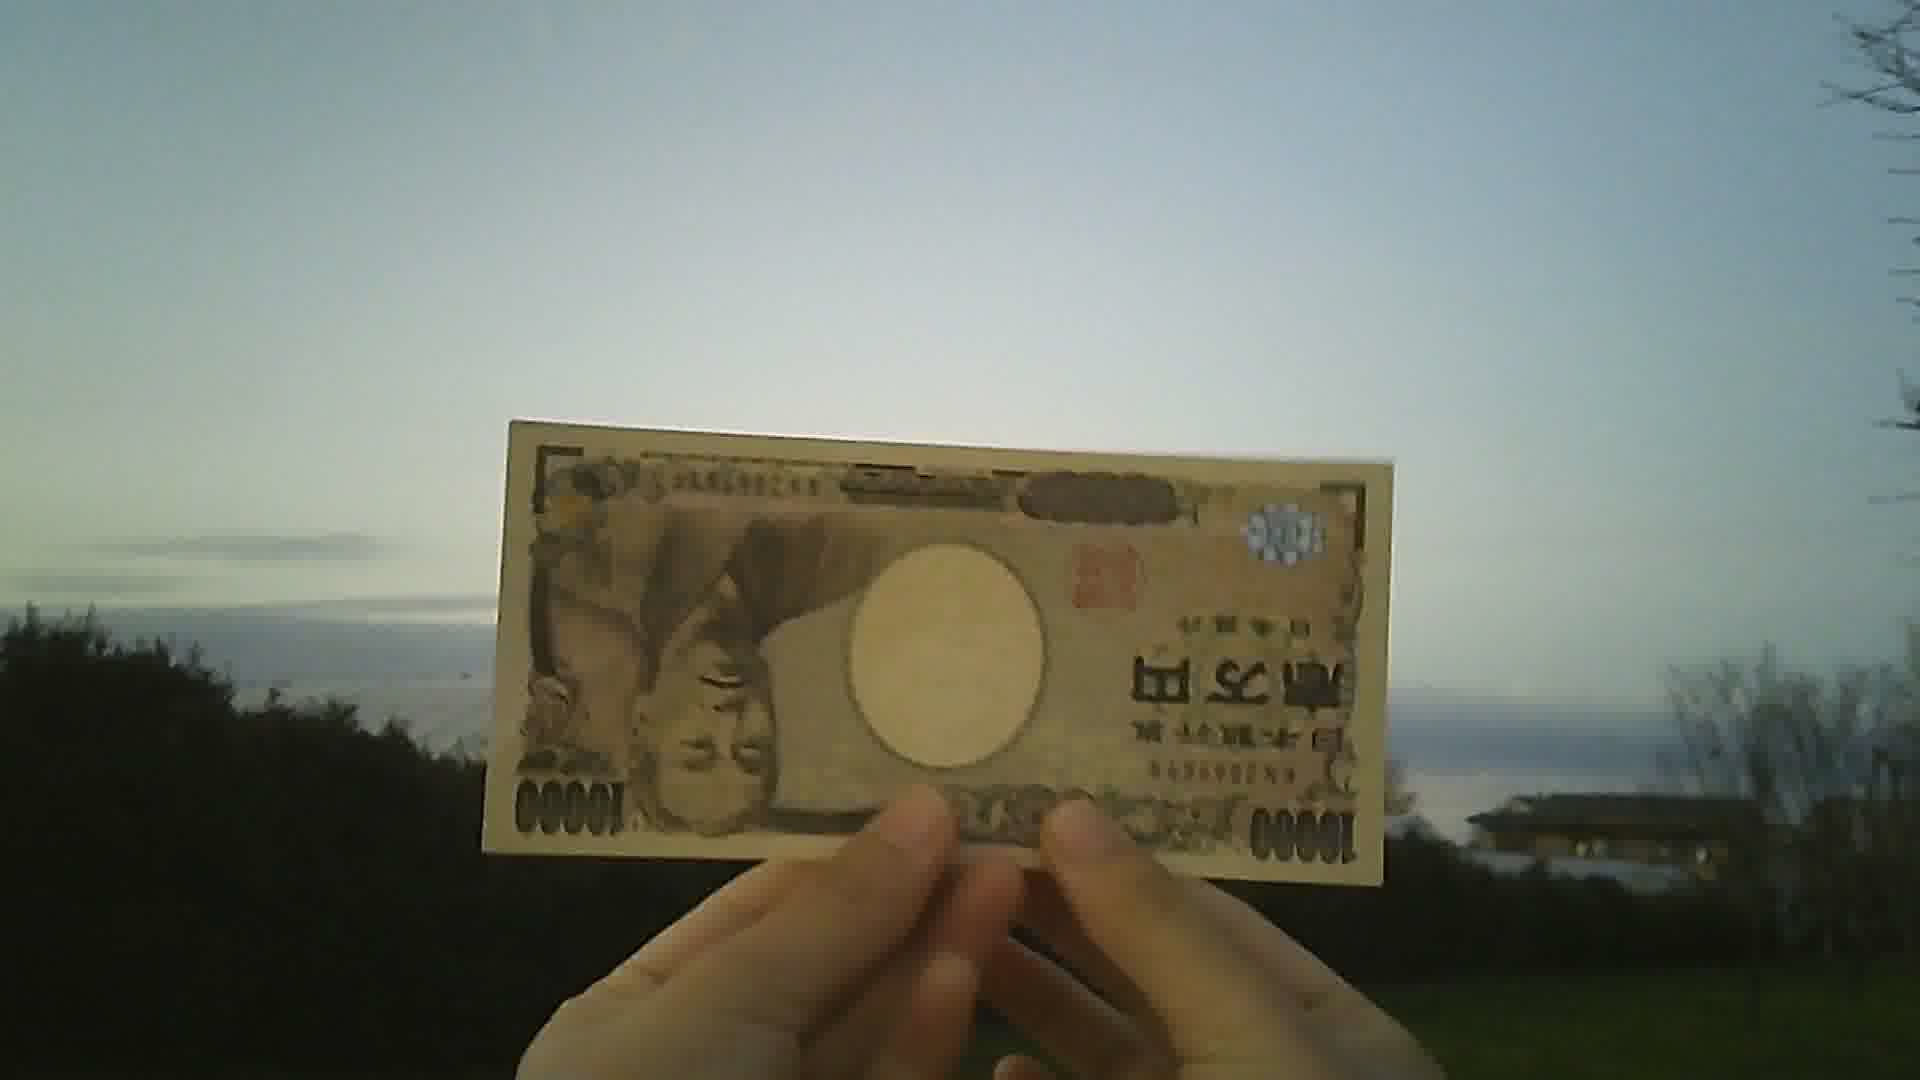10,000 Yen: (458, 410, 1410, 914)
